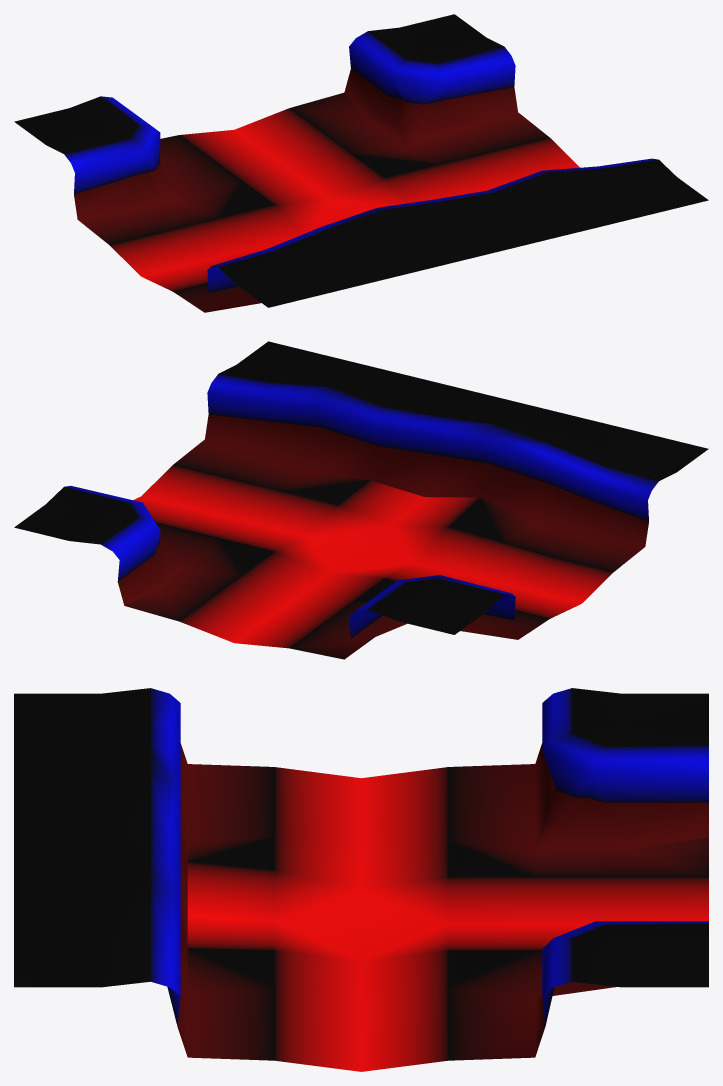
Rendered from T_path1.fbx.
The picture shows the model from 3 angles, top to bottom: view 1: azimuth 30°, elevation 25°; view 2: azimuth 150°, elevation 25°; view 3: azimuth 270°, elevation 25°; orthographic projection. The views are drawn at different scales.
Visible parts, largest first — view 1: TIntersection_Path; view 2: TIntersection_Path; view 3: TIntersection_Path.
Boxes of the visible parts, box(x1,y1,x2,y2) form: TIntersection_Path: box(14, 14, 708, 312); TIntersection_Path: box(14, 341, 708, 659); TIntersection_Path: box(14, 688, 708, 1071).
Bounding box in the file's own units: 2560 × 459 × 2560.
